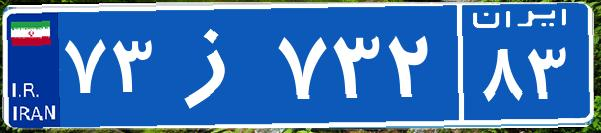2: (385, 28, 445, 110)
3: (330, 28, 385, 110), (110, 28, 158, 105), (525, 38, 570, 115)
7: (273, 28, 330, 110), (57, 26, 110, 107)
8: (475, 38, 525, 113)
ز: (158, 15, 273, 115)
